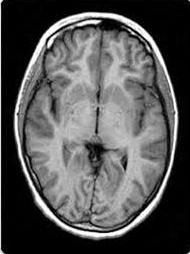Normal_Brain: (11, 4, 182, 254)
